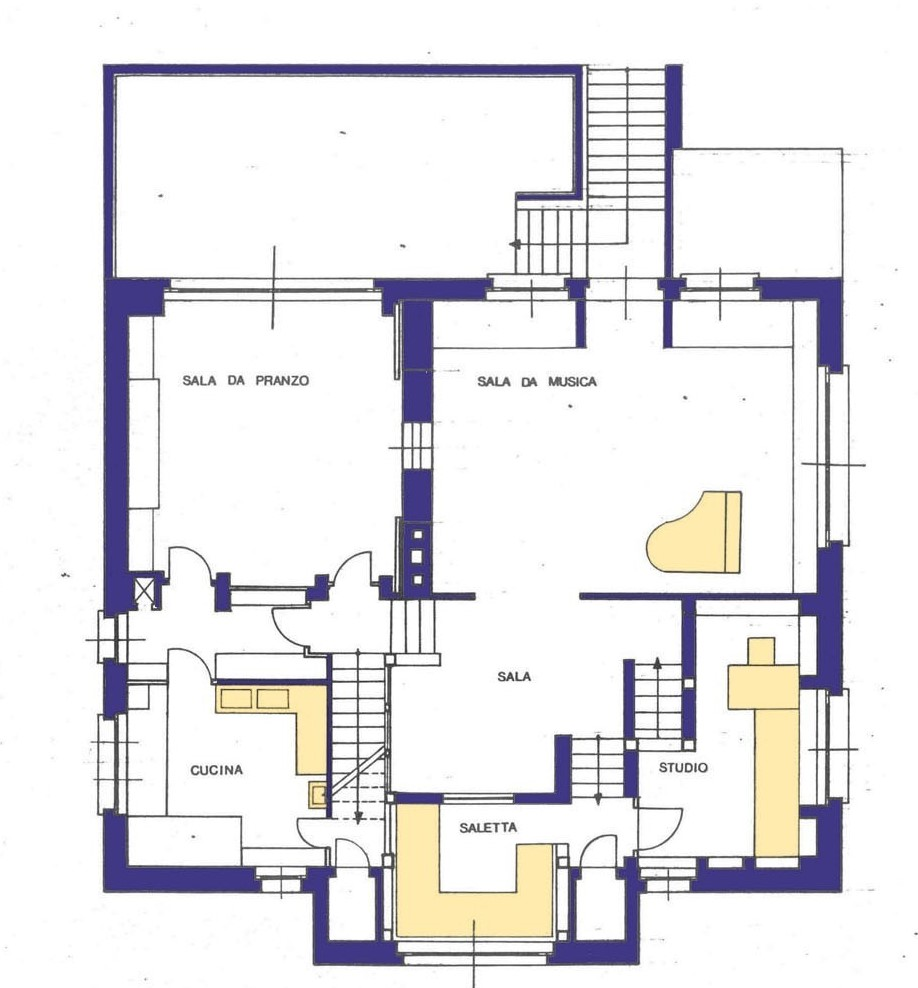wall: (100, 281, 126, 608), (698, 862, 841, 896), (400, 469, 434, 598), (811, 550, 843, 687), (404, 300, 434, 421), (128, 865, 256, 890), (752, 275, 846, 300), (104, 802, 131, 886), (380, 277, 488, 298), (307, 866, 328, 962), (331, 941, 401, 969), (619, 862, 644, 938), (558, 939, 638, 962), (101, 656, 131, 717), (652, 275, 679, 342), (676, 593, 695, 683), (817, 303, 843, 368), (365, 863, 385, 944), (579, 590, 819, 596), (564, 863, 582, 939), (552, 735, 570, 805), (571, 278, 589, 344), (622, 656, 635, 745), (622, 747, 641, 800), (431, 586, 477, 605), (388, 793, 440, 808), (511, 786, 553, 802), (216, 571, 229, 611), (304, 574, 329, 593)
